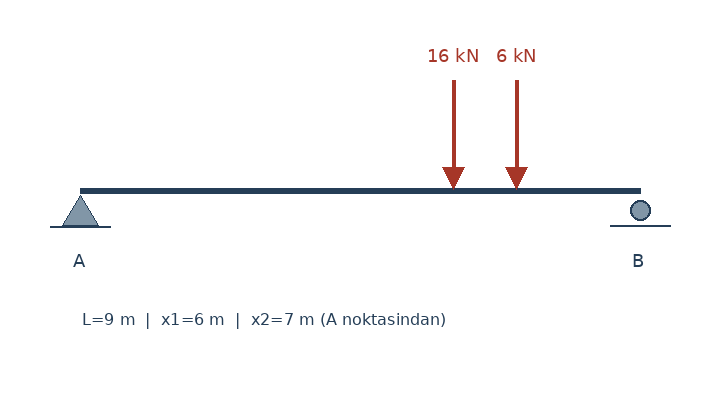pin_support: (61, 190, 99, 226)
point_load: (439, 76, 467, 190), (502, 76, 530, 190)
roller_support: (625, 196, 655, 227)
